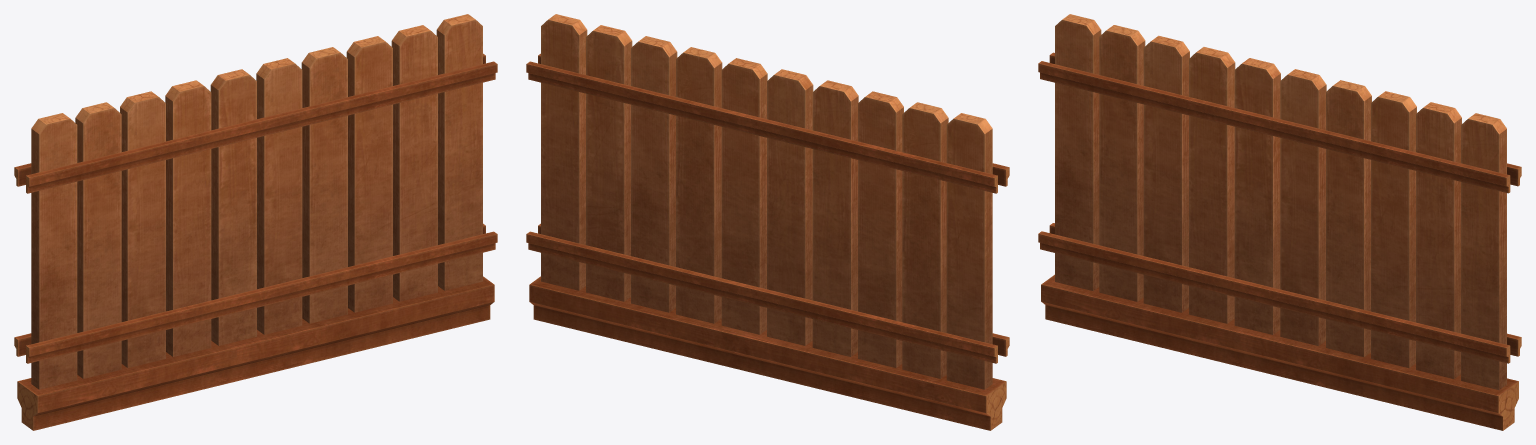
The model's file is Full panel 1.fbx.
3 renders of one model, left to right at view 1: azimuth 30°, elevation 25°; view 2: azimuth 150°, elevation 25°; view 3: azimuth 330°, elevation 25°, orthographic.
Parts seen in each view (by area): view 1: Fence1_Large_Left; view 2: Fence1_Large_Left; view 3: Fence1_Large_Left.
Part boxes in pixels (box(x1,y1,x2,y2)): Fence1_Large_Left: box(14, 14, 497, 430); Fence1_Large_Left: box(526, 14, 1009, 430); Fence1_Large_Left: box(1038, 14, 1521, 430).
Size of the model in its own units: 183 by 113 by 13.84.
